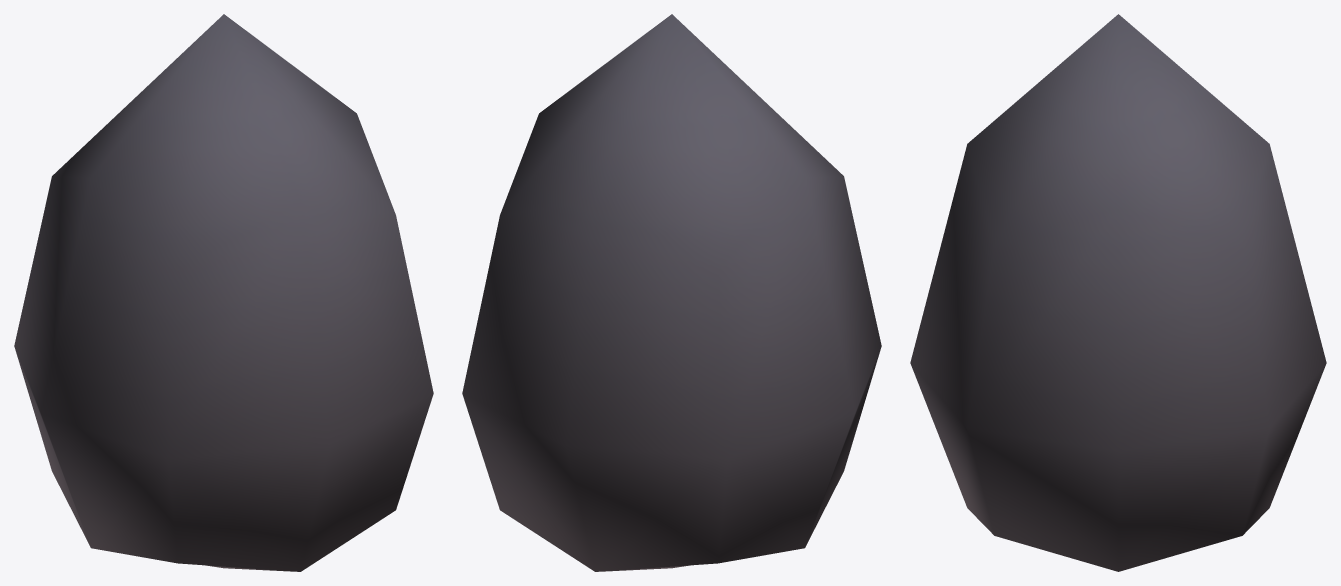
File: sinker.glb
The picture shows the model from 3 angles, left to right: view 1: azimuth 30°, elevation 25°; view 2: azimuth 150°, elevation 25°; view 3: azimuth 270°, elevation 25°; orthographic projection.
Visible parts, largest first — view 1: Sinker; view 2: Sinker; view 3: Sinker.
Part boxes in pixels (box(x1,y1,x2,y2)): Sinker: box(14, 14, 433, 571); Sinker: box(462, 14, 881, 571); Sinker: box(910, 14, 1326, 571).
Size of the model in its own units: 0.1923 by 0.2781 by 0.1923.
1 material, 1 textured.
